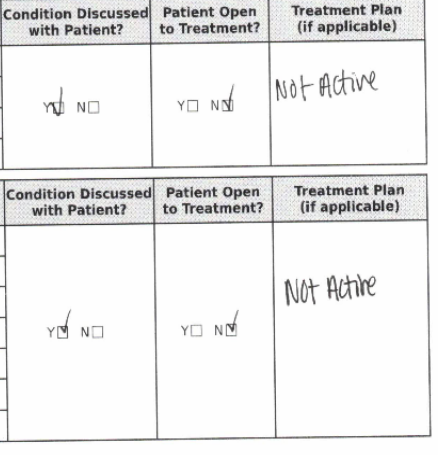checked: (226, 309, 249, 343), (52, 86, 73, 123), (222, 85, 242, 118), (56, 309, 76, 342)
